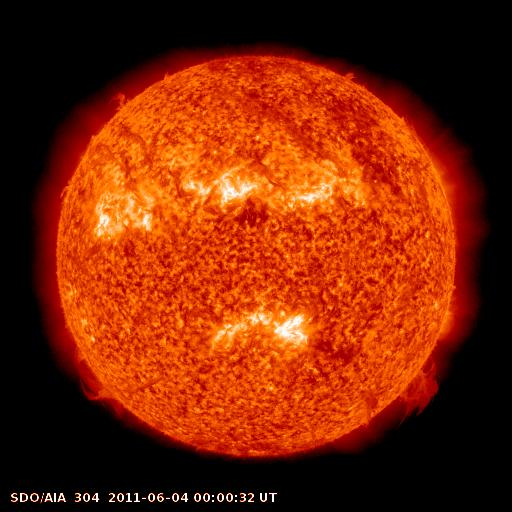prominence: (380, 351, 448, 432), (64, 346, 133, 419), (326, 53, 379, 96), (103, 86, 138, 119)
